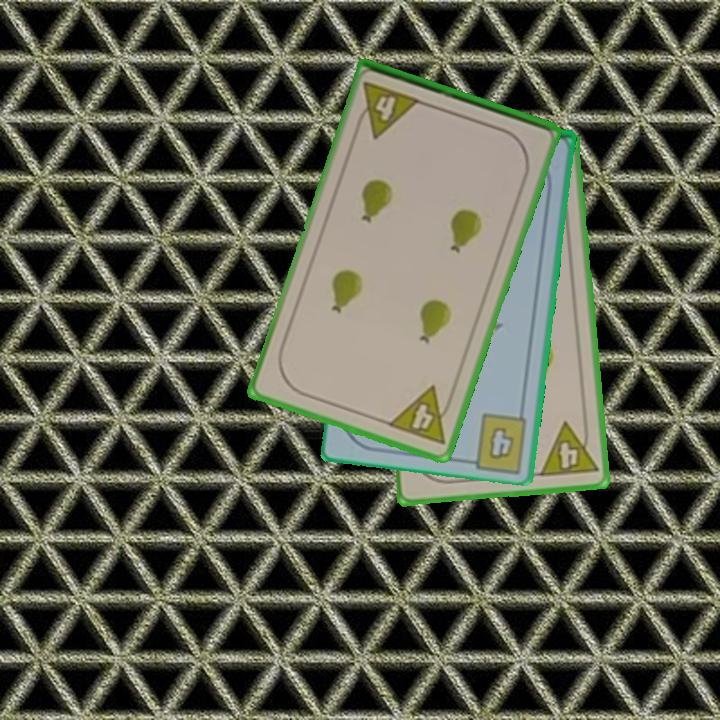4b: (486, 423, 518, 463)
4p: (384, 382, 458, 448), (351, 78, 424, 141), (536, 417, 601, 480)
